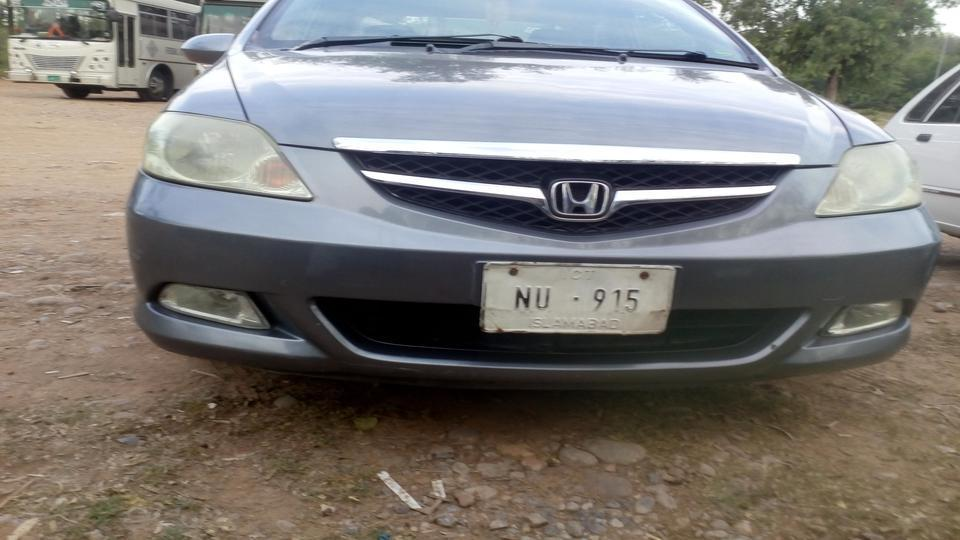NumberPlate: (486, 261, 676, 335)
